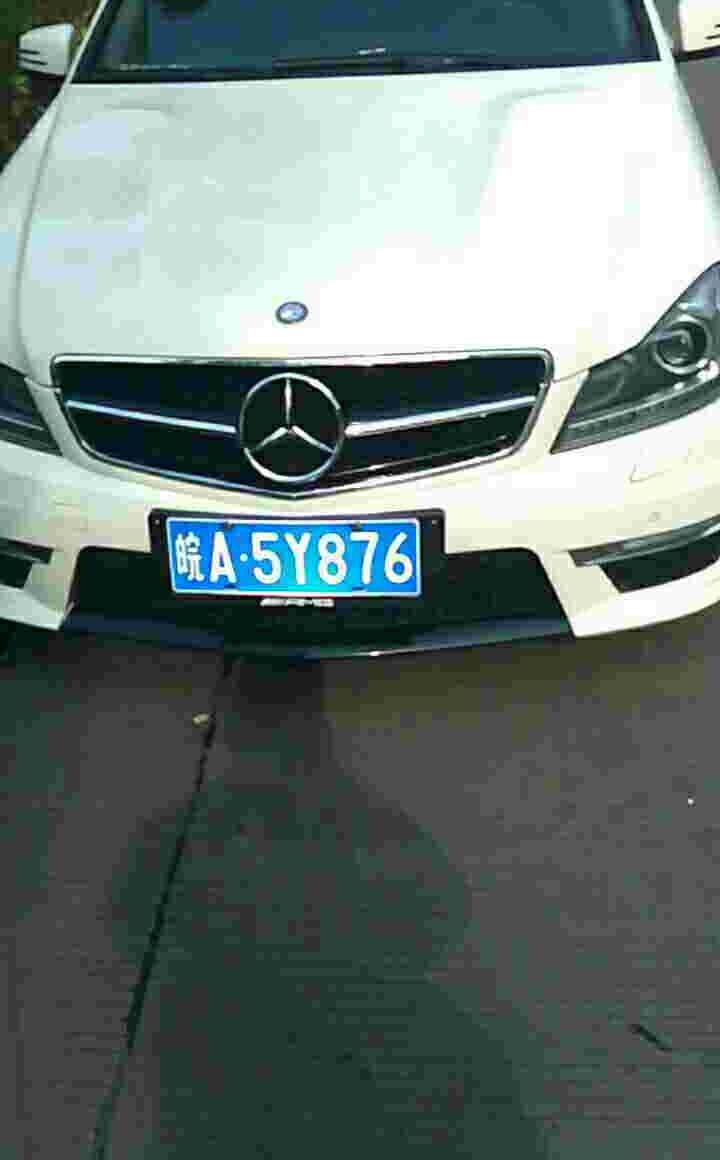license_plate: (164, 514, 433, 593)
